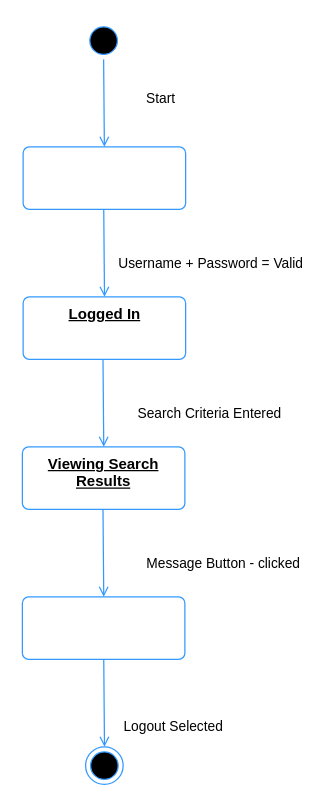
This 324x806 diagram has some shape labels left out. The centre of each missing label's shape, as x and y in pixels:
"Message/hire Service Provider" belongs at (103,627).
"Unauthenticated Visitor" belongs at (104,177).
